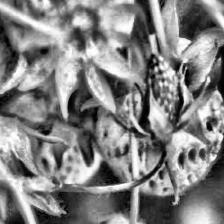Gray Mold: (130, 52, 195, 148), (0, 4, 31, 92)
